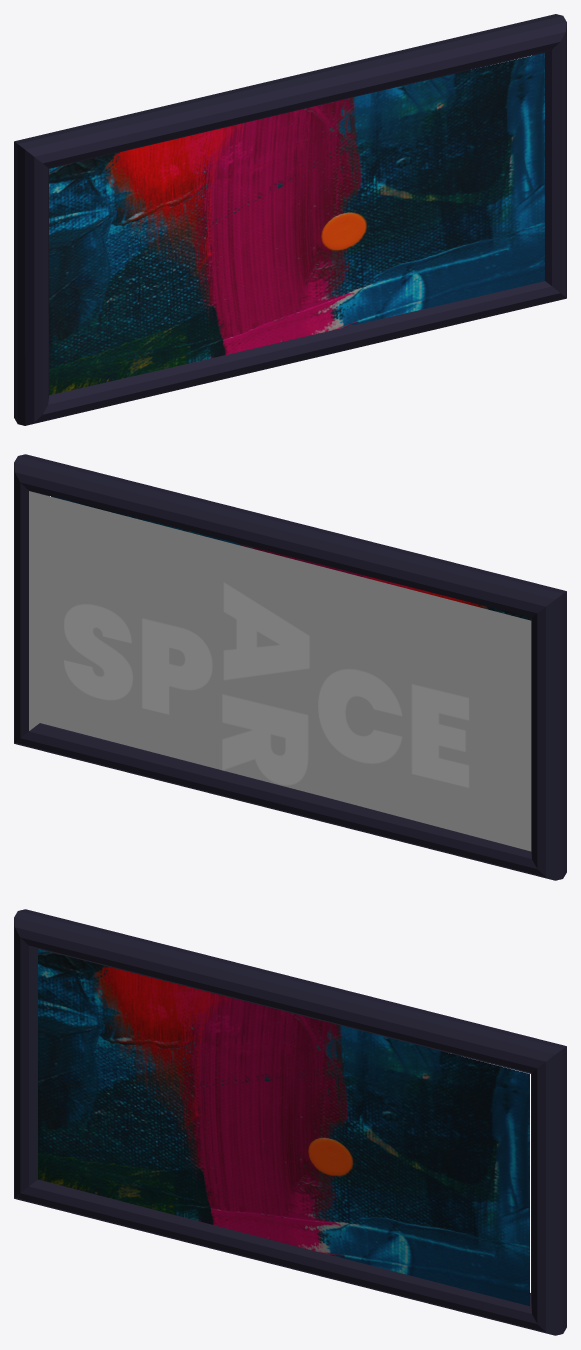
The model's file is melody.gltf.
3 views of the same model, one above another, from view 1: azimuth 30°, elevation 25°; view 2: azimuth 150°, elevation 25°; view 3: azimuth 330°, elevation 25° (orthographic).
Visible parts, largest first — view 1: melody, Torus.002; view 2: Back_Cover, Torus.002, LogoSpaceAR_150, melody; view 3: melody, Torus.002.
Part boxes in pixels (left/top/right/bottom): melody: left=49, top=53, right=544, bottom=395; Torus.002: left=14, top=14, right=566, bottom=425; Back_Cover: left=29, top=491, right=531, bottom=851; Torus.002: left=14, top=454, right=566, bottom=880; LogoSpaceAR_150: left=64, top=582, right=469, bottom=787; melody: left=51, top=496, right=531, bottom=620; melody: left=38, top=949, right=529, bottom=1306; Torus.002: left=14, top=909, right=566, bottom=1335.
Size of the model in its own units: 3.05 by 1.51 by 0.3205.
3 materials, 2 textured.
